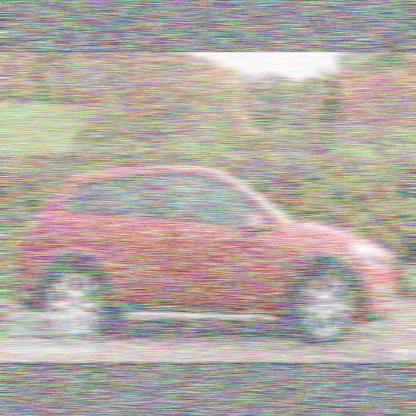Vehicle: (13, 164, 400, 342)
